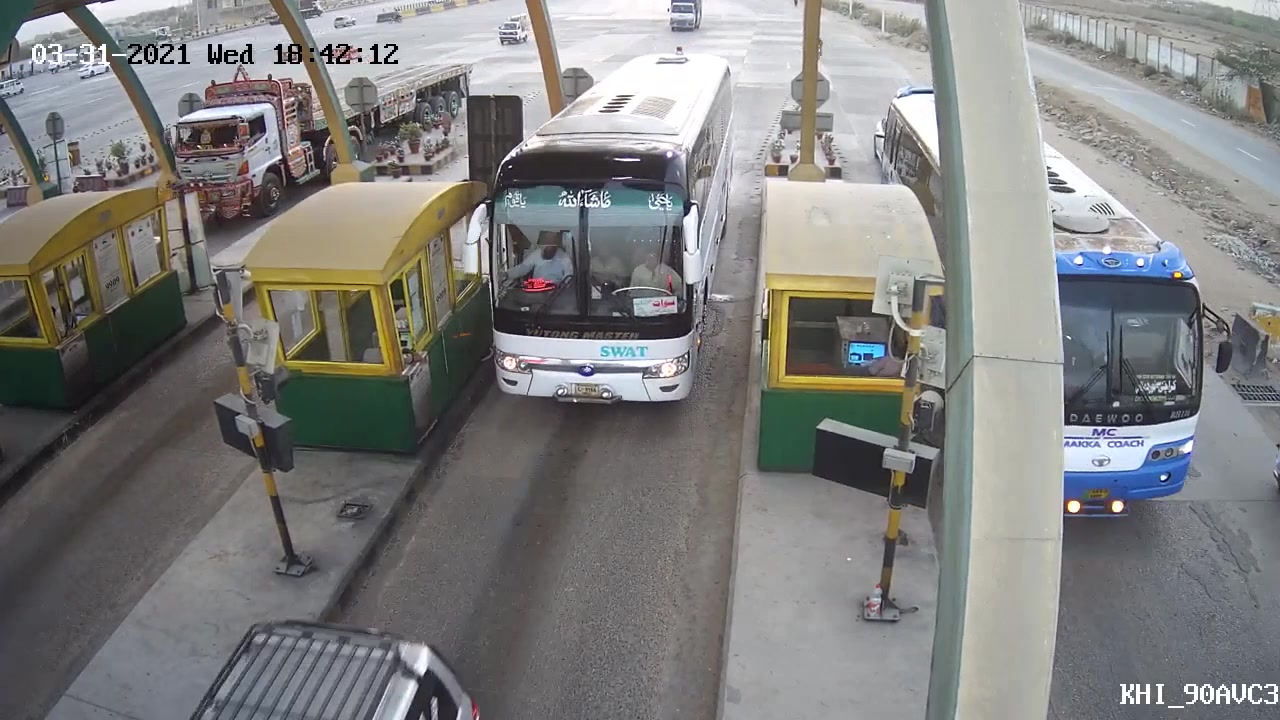F4: (454, 85, 749, 415)
